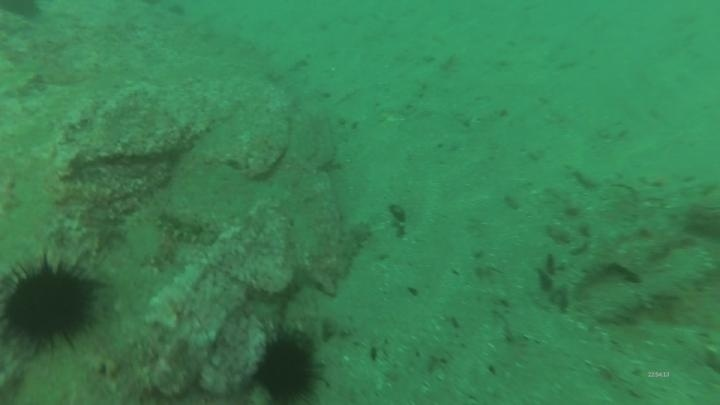echinus: (0, 251, 103, 355), (249, 324, 327, 405)
holothurian: (318, 218, 375, 288), (153, 205, 217, 248)
